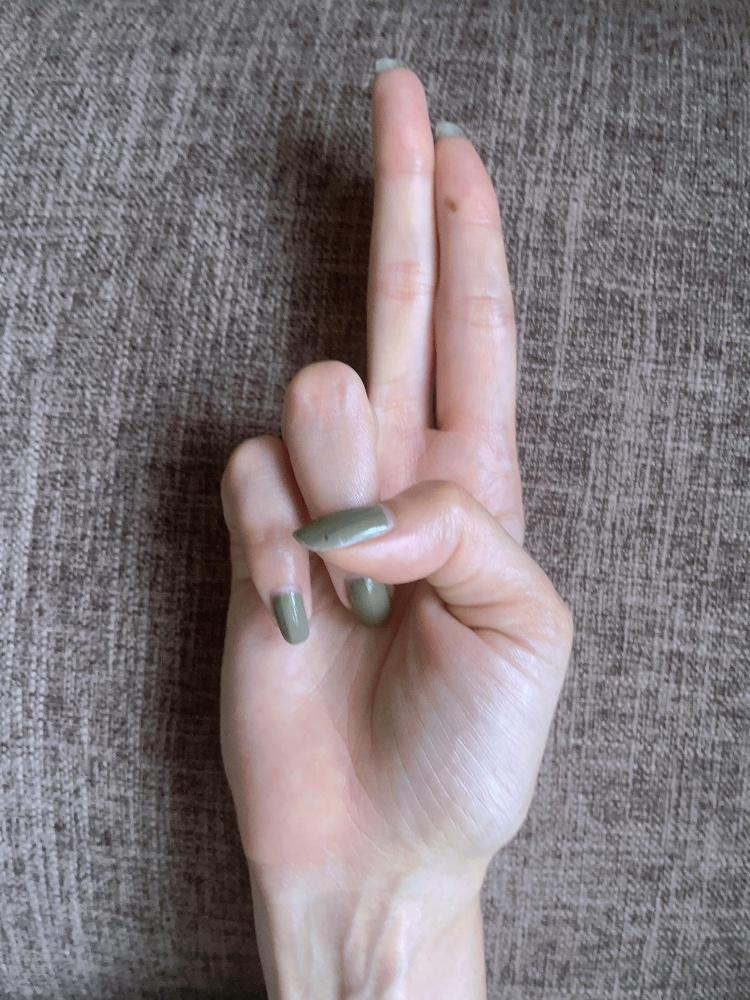u: (211, 59, 580, 858)
